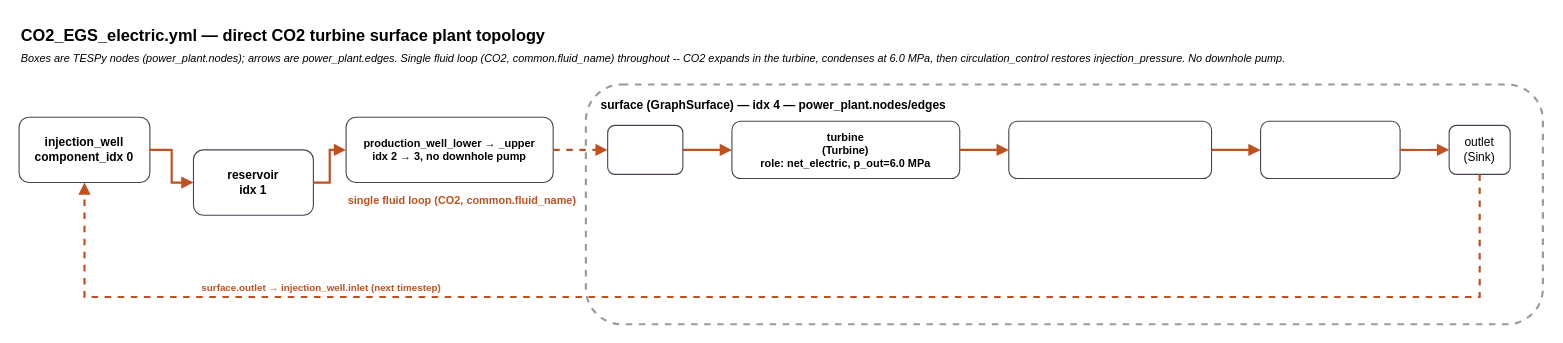
Image size: 1563x343. Some labels were removed from this diagram. The shapes that lost their labels are listed below. From the top down, each one's centre as x and y in pixels, then its label:
At point 645,149: "inlet (Source)".
At point 1110,149: "condenser (SimpleHeatExchanger) p_out=6.0 MPa, subcooling_K=3".
At point 1329,149: "circulation_control (PumpOrValve) role: net_electric".
